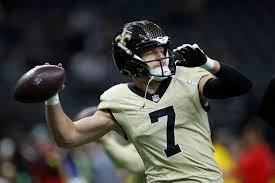americanFootball: (14, 65, 64, 104)
